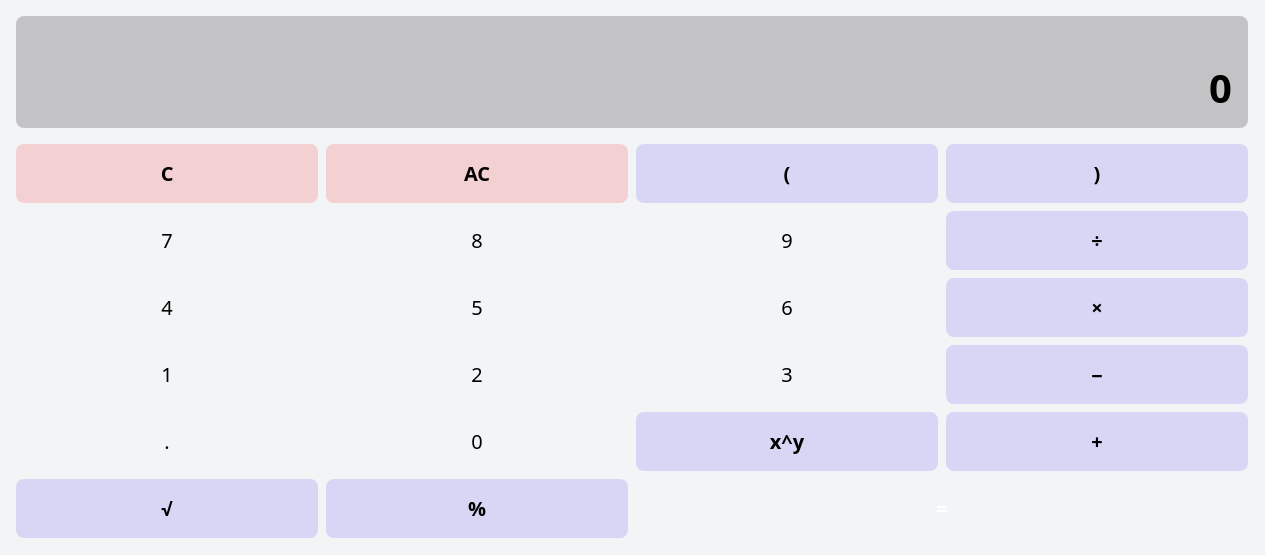
Test: Calculator UI & State › builds expression string correctly
Click the button "5".
click(477, 308)  # box [326,278,628,337]
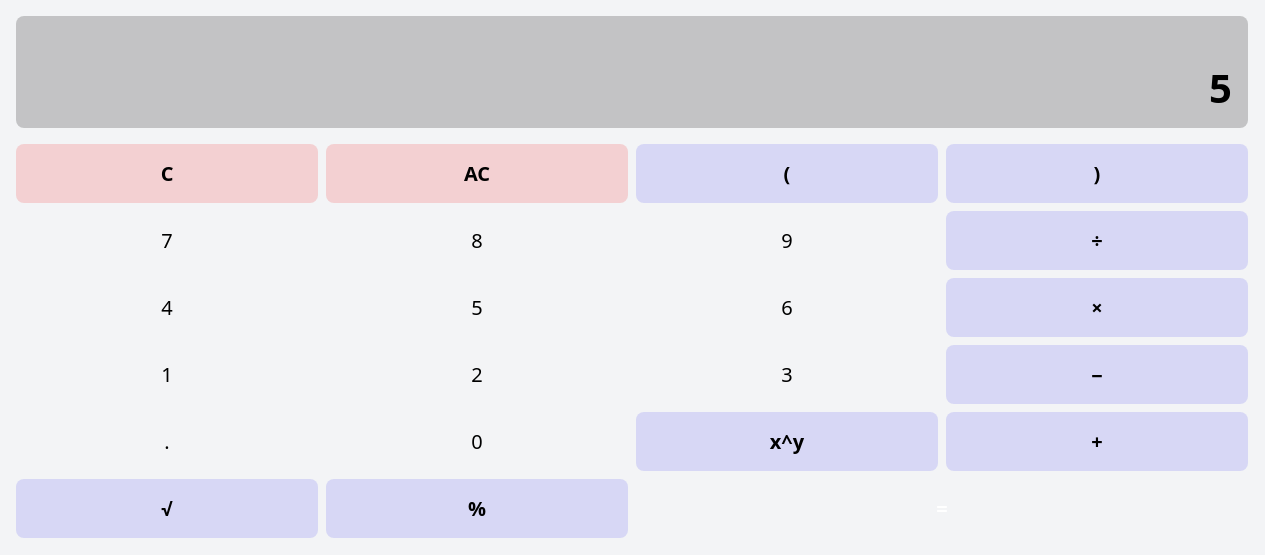
Click the button "+".
click(1097, 442)  # box [946,412,1248,471]
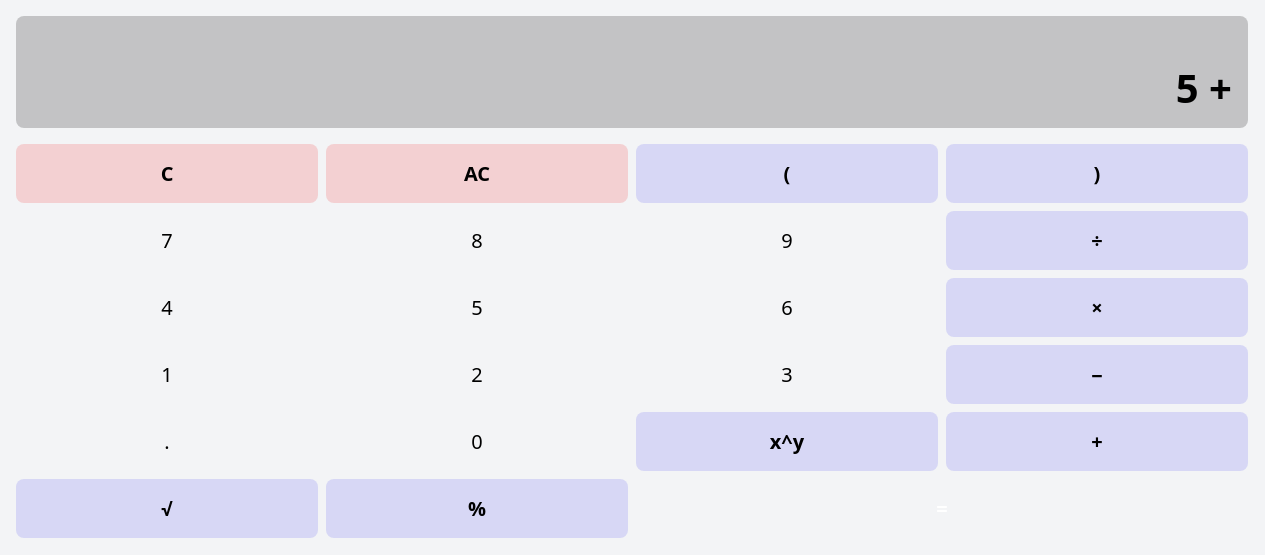
Click the button "5".
click(477, 308)  # box [326,278,628,337]
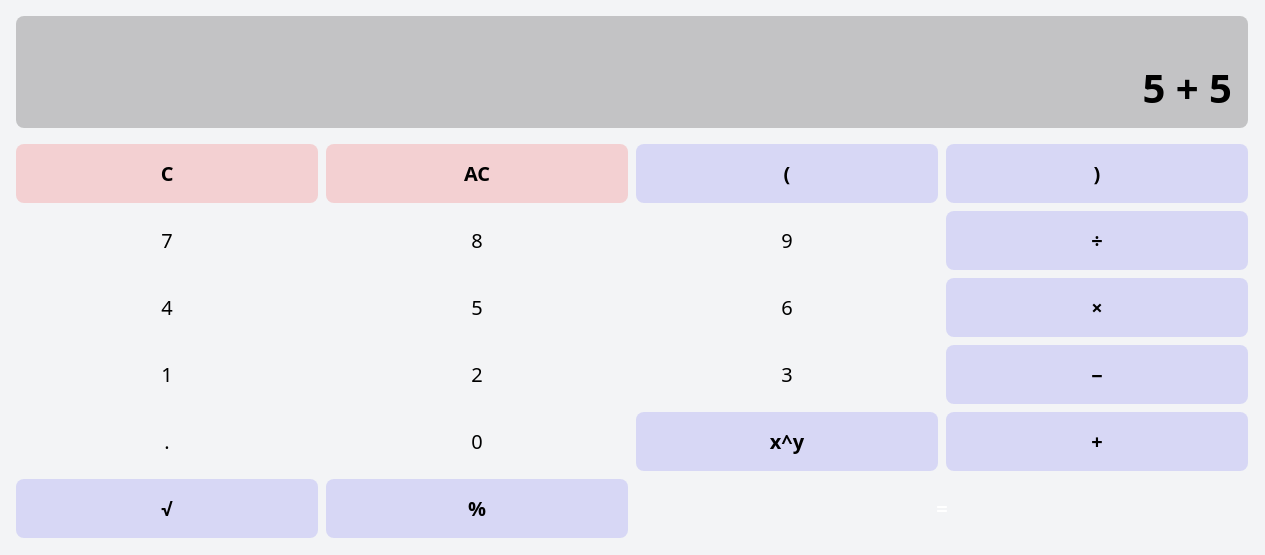
Check: the text "5 + 5" is shown, box [1142,60,1232,115]
